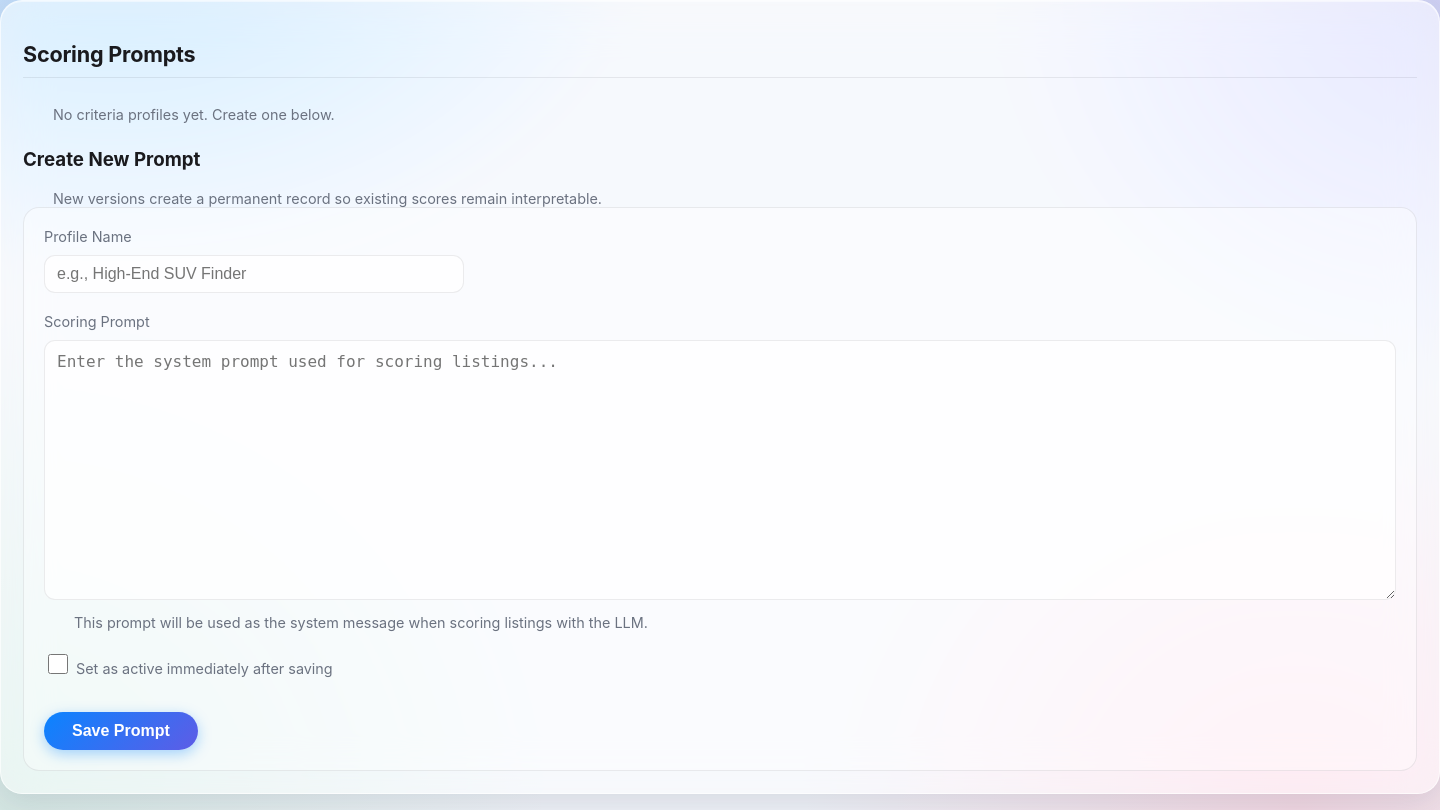
PromptsTab › shows error when name or prompt text is empty
This screenshot has width=1440, height=810.
Expected: the field labelled "Profile Name" is shown, left=44, top=255, right=464, bottom=293
Click the button "Save Prompt" at (121, 731), box left=44, top=712, right=198, bottom=750
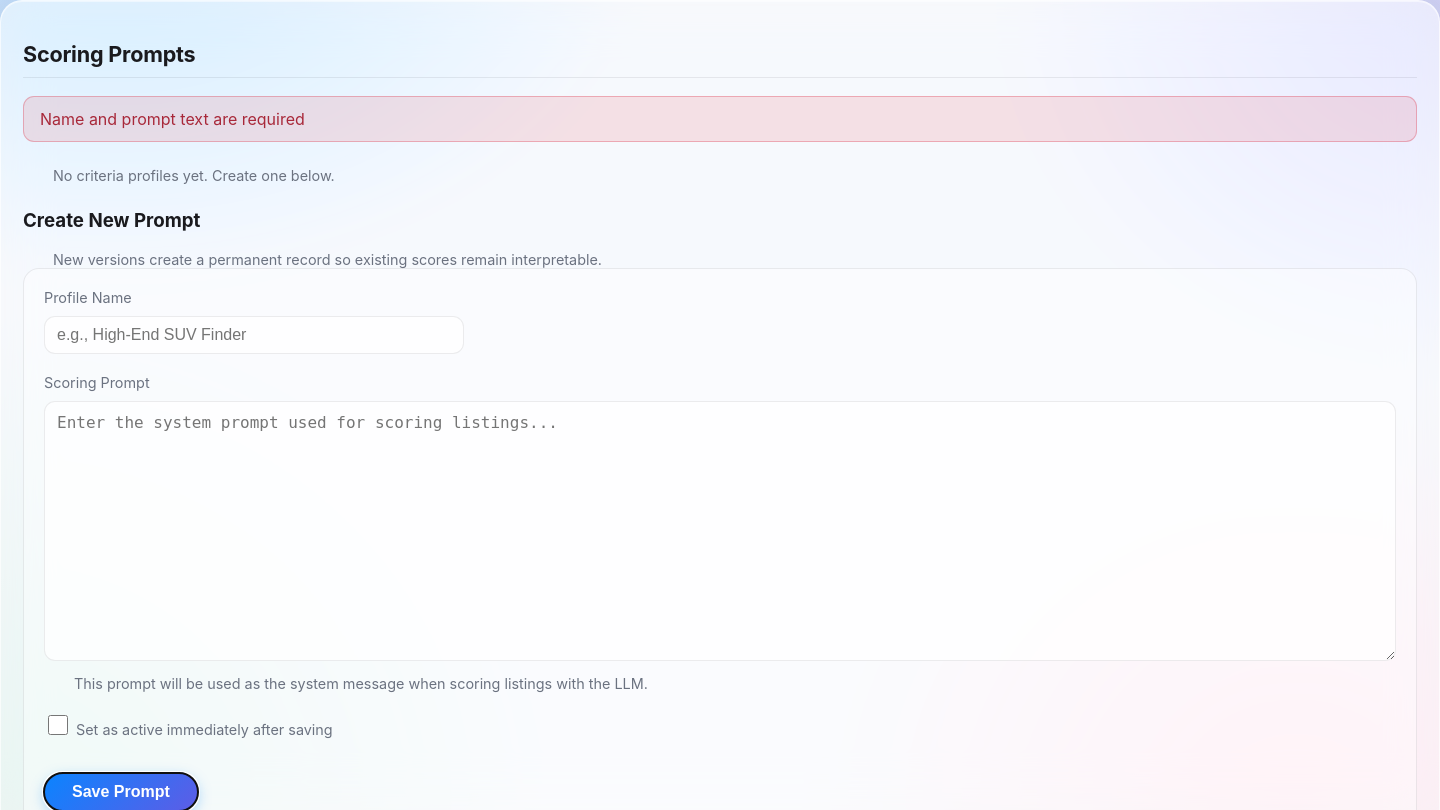
Now the text "Name and prompt text are required" is shown, box left=23, top=96, right=1417, bottom=142
